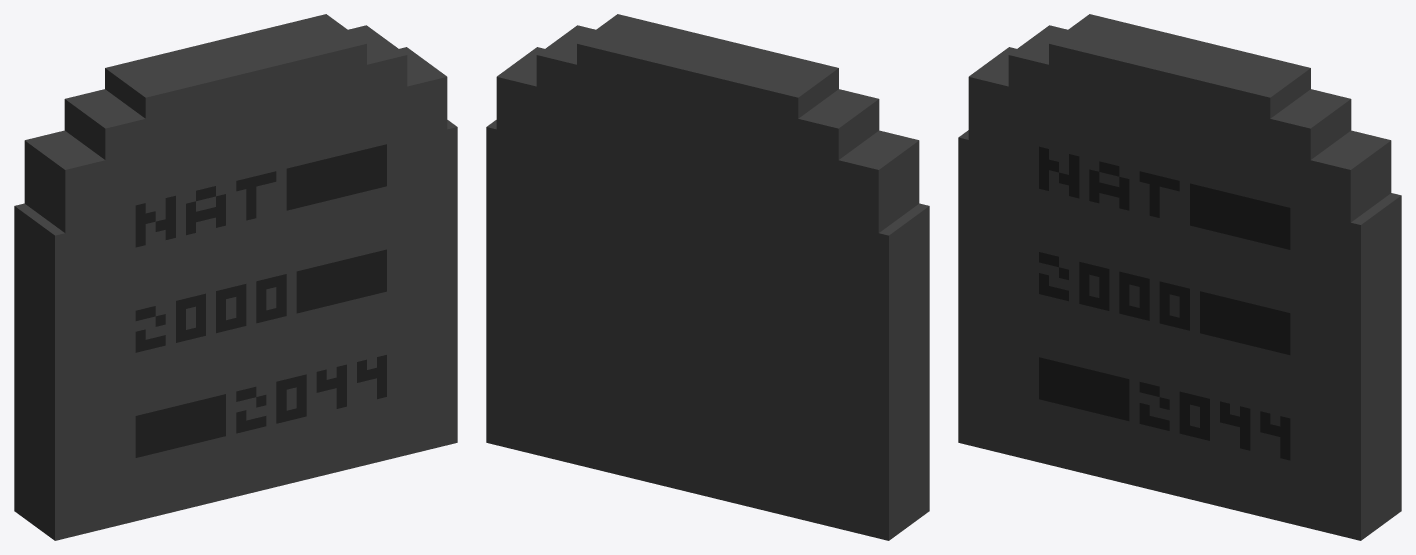
Rendered from NatGraveStone.obj.
3 renders of one model, left to right at view 1: azimuth 30°, elevation 25°; view 2: azimuth 150°, elevation 25°; view 3: azimuth 330°, elevation 25°, orthographic.
Bounding box in the file's own units: 4 × 4 × 0.7.
Materials: 1 (1 with a texture image).
